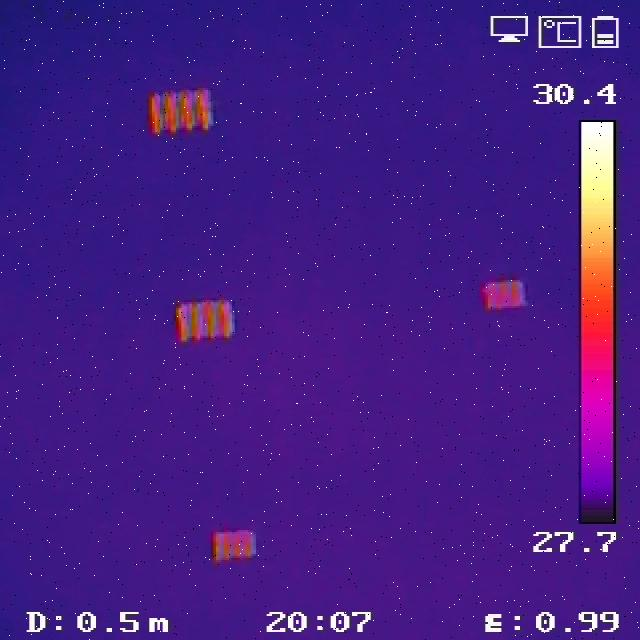Distinguishable 4-bar target: (144, 89, 209, 130)
threshold 4-bar target: (173, 302, 232, 340), (484, 280, 529, 309), (212, 531, 253, 562)
